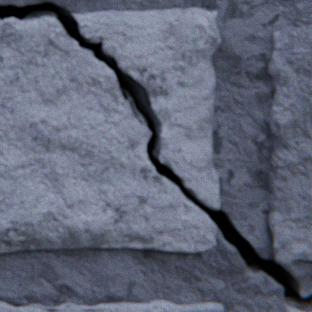brick: (265, 25, 311, 262), (0, 299, 222, 311)
broken_brick: (0, 17, 216, 251), (72, 8, 218, 208), (284, 304, 303, 311)
crack: (0, 1, 311, 311)
